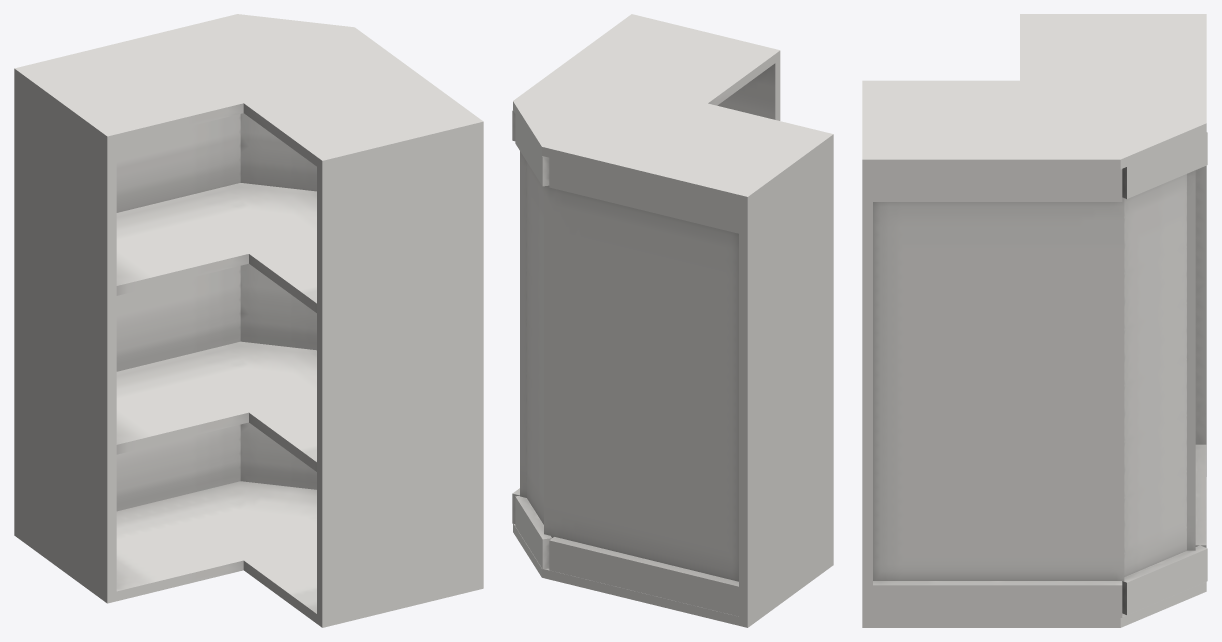
File: wall-90-corner-doors-off.glb
The picture shows the model from 3 angles, left to right: view 1: azimuth 30°, elevation 25°; view 2: azimuth 150°, elevation 25°; view 3: azimuth 270°, elevation 25°; orthographic projection. The views are drawn at different scales.
Parts seen in each view (by area): view 1: part_0; view 2: part_0; view 3: part_0.
Part boxes in pixels (x1,y1,x2,y2): part_0: (14,14,483,627); part_0: (512,14,833,627); part_0: (862,14,1207,627).
Size of the model in its own units: 0.6096 by 0.9144 by 0.6114.
1 material, 1 textured.
